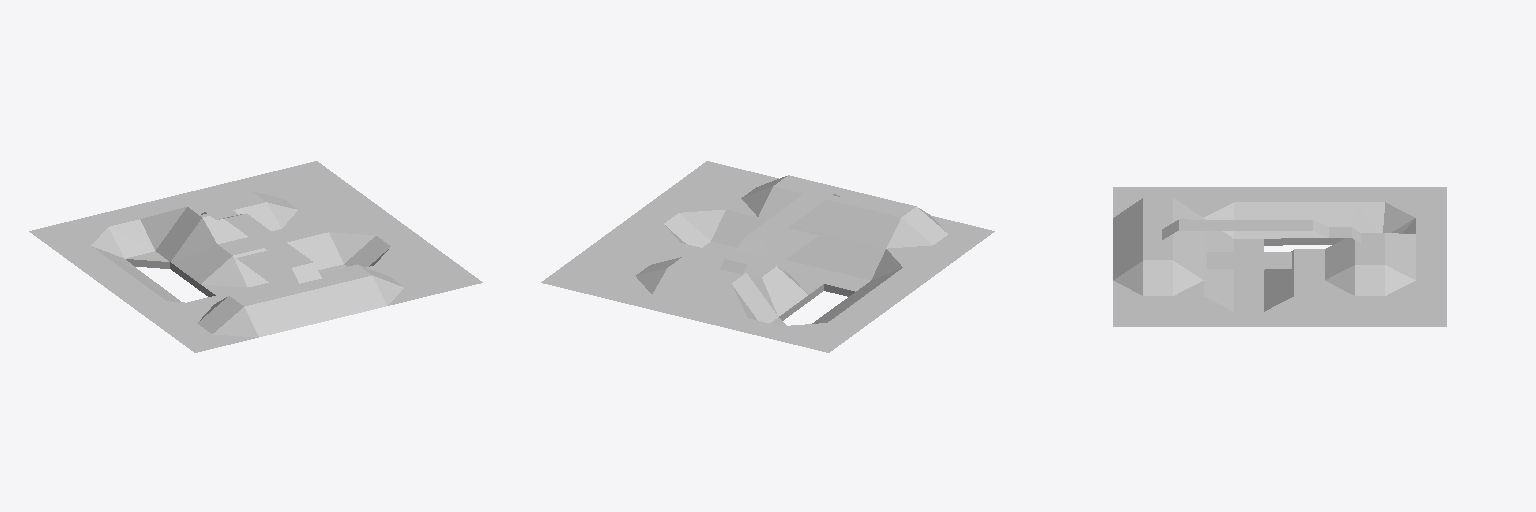
The model's file is scene-levels.obj.
The picture shows the model from 3 angles: view 1: azimuth 30°, elevation 25°; view 2: azimuth 150°, elevation 25°; view 3: azimuth 270°, elevation 25°; orthographic projection.
Visible parts, largest first — view 1: Plane, Plane.001, Plane.002; view 2: Plane, Plane.001, Plane.002; view 3: Plane, Plane.001, Plane.002.
Part boxes in pixels (bbox=[...]): Plane: bbox=[29, 161, 482, 352]; Plane.001: bbox=[201, 206, 321, 283]; Plane.002: bbox=[236, 251, 296, 284]; Plane: bbox=[541, 161, 994, 352]; Plane.001: bbox=[720, 188, 839, 274]; Plane.002: bbox=[753, 228, 818, 265]; Plane: bbox=[1113, 187, 1446, 326]; Plane.001: bbox=[1162, 219, 1360, 243]; Plane.002: bbox=[1207, 252, 1291, 268].
Bounding box in the file's own units: 42.89 × 8.23 × 42.89.